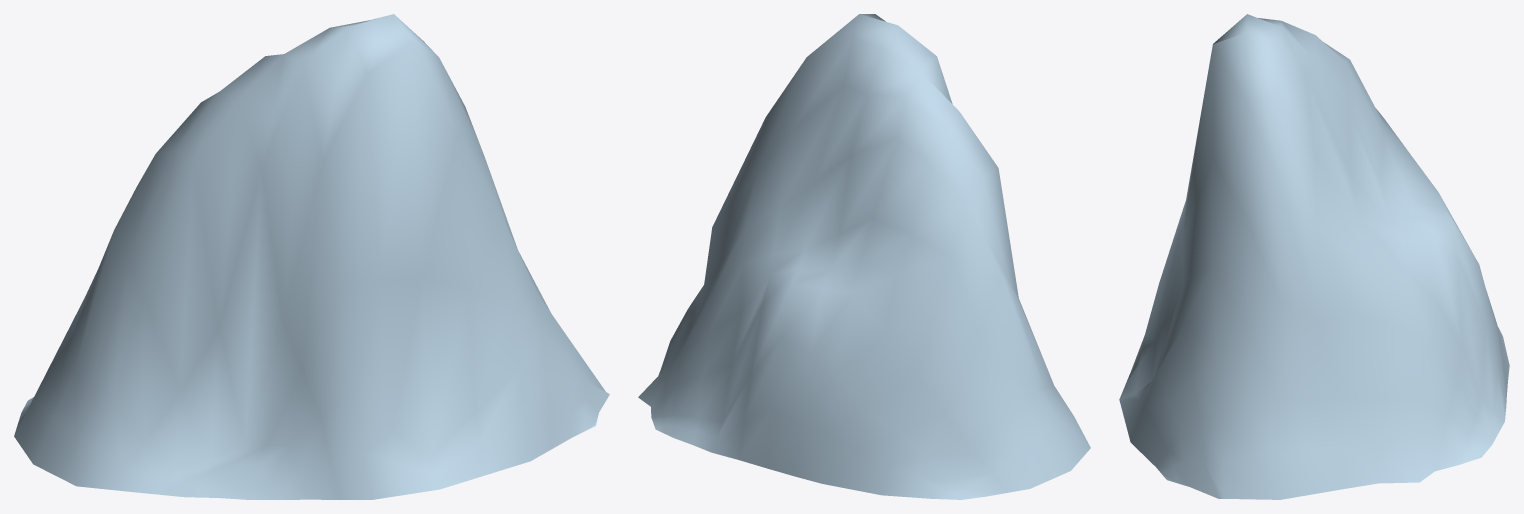
Rendered from Montanha.fbx.
3 views of the same model, side by side, from view 1: azimuth 30°, elevation 25°; view 2: azimuth 150°, elevation 25°; view 3: azimuth 270°, elevation 25° (orthographic). The views are drawn at different scales.
Parts seen in each view (by area): view 1: Terreno.001; view 2: Terreno.001; view 3: Terreno.001.
Part boxes in pixels (x1,y1,x2,y2): Terreno.001: (14, 14, 609, 499); Terreno.001: (638, 14, 1090, 499); Terreno.001: (1119, 14, 1509, 499).
Size of the model in its own units: 7269 by 5731 by 5358.
